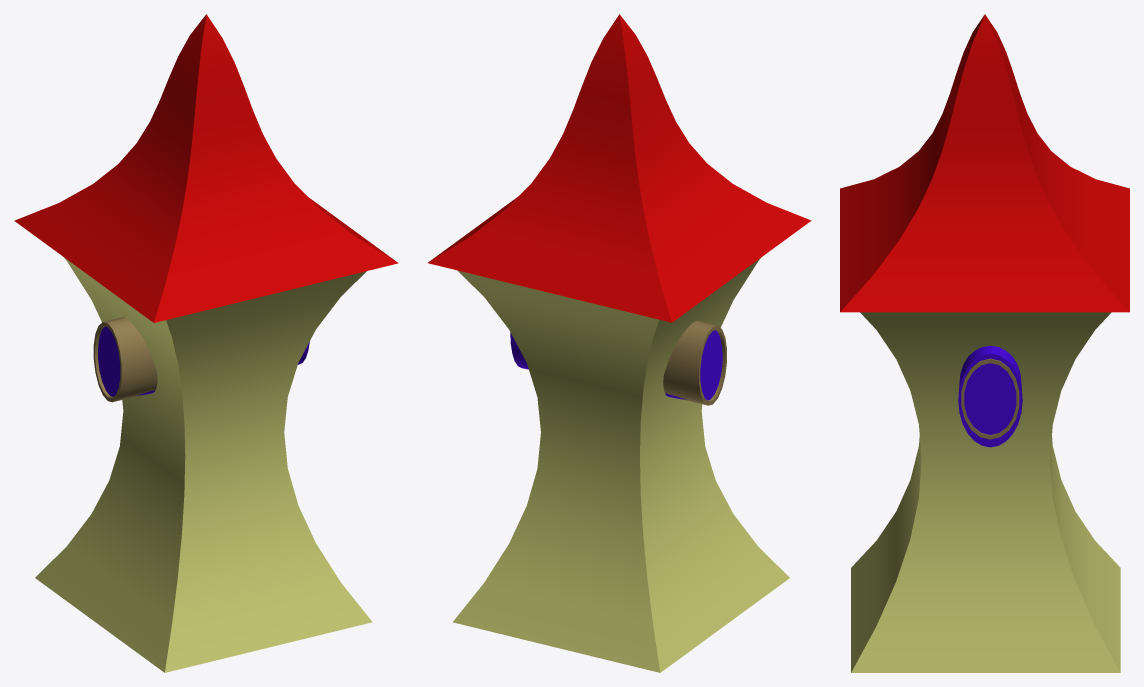
The model's file is House.gltf.
3 renders of one model, left to right at view 1: azimuth 30°, elevation 25°; view 2: azimuth 150°, elevation 25°; view 3: azimuth 270°, elevation 25°, orthographic. The views are drawn at different scales.
Parts seen in each view (by area): view 1: Box001, Pyramid001, Tube001, Cone002; view 2: Box001, Pyramid001, Tube001, Cone002; view 3: Box001, Pyramid001, Cone002, Tube001.
Part boxes in pixels (bbox=[...]): Box001: bbox=[35, 257, 372, 672]; Pyramid001: bbox=[14, 14, 398, 322]; Tube001: bbox=[93, 317, 157, 402]; Cone002: bbox=[98, 326, 309, 396]; Box001: bbox=[453, 258, 789, 672]; Pyramid001: bbox=[428, 14, 811, 322]; Tube001: bbox=[663, 320, 726, 405]; Cone002: bbox=[510, 330, 722, 400]; Box001: bbox=[851, 312, 1120, 672]; Pyramid001: bbox=[840, 14, 1129, 312]; Cone002: bbox=[958, 345, 1022, 447]; Tube001: bbox=[961, 358, 1019, 439].
Size of what is drawn, in the model's own units: 1.48 by 3.37 by 1.46.
